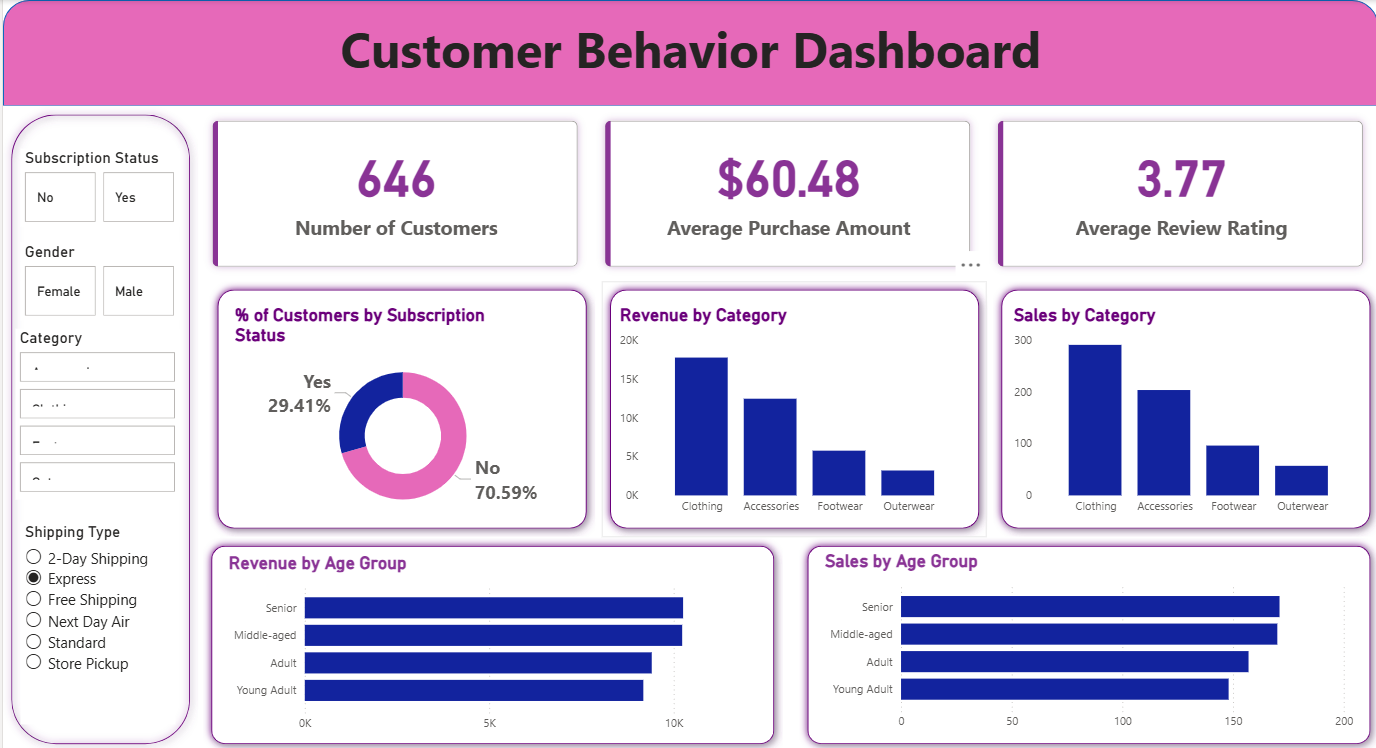

The dashboard page shown, as its layout file describes it:
{"tool":"powerbi","page":{"name":"Page 1","canvas":[1500,820],"ordinal":0},"visuals":[{"type":"cardVisual","fields":{"Data":["public customer.Number of Customers","public customer.Average Purchase Amount","public customer.Average Review Rating"]},"box":[212.9,115.3,1286.5,191.6],"z":2000},{"type":"shape","box":[218.3,585.6,631.7,234.2],"z":2500,"group":"g1"},{"type":"shape","box":[0,0,1499.4,115.3],"z":3000},{"type":"textbox","box":[0,12.4,1499.4,102.9],"z":4000},{"type":"shape","box":[225.4,307,420.5,278.6],"z":5000},{"type":"donutChart","title":"% of Customers by Subscription Status","fields":{"Category":["public customer.subscription_status"],"Y":["CountNonNull(public customer.customer_id)"]},"box":[248.4,331.8,376.2,237.8],"z":6000},{"type":"shape","box":[1078.9,307,420.5,278.6],"z":7000},{"type":"shape","box":[652.1,307,420.5,278.6],"z":8000},{"type":"clusteredColumnChart","title":"Revenue by Category","fields":{"Y":["Sum(public customer.purchase_amount)"],"Category":["public customer.category"]},"box":[667.2,331.8,385.1,237.8],"z":9000},{"type":"clusteredColumnChart","title":"Sales by Category","fields":{"Y":["CountNonNull(public customer.customer_id)"],"Category":["public customer.category"]},"box":[1096.6,331.8,385.1,237.8],"z":10000},{"type":"shape","box":[0,115.3,212.9,704.5],"z":11000},{"type":"advancedSlicerVisual","fields":{"Values":["public customer.subscription_status"]},"box":[19.5,161.5,173.9,85.2],"z":12000},{"type":"advancedSlicerVisual","fields":{"Values":["public customer.gender"]},"box":[19.5,264.4,173.9,85.2],"z":13000},{"type":"advancedSlicerVisual","fields":{"Values":["public customer.category"]},"box":[14.2,358.4,179.2,186.3],"z":14000},{"type":"listSlicer","fields":{"Values":["public customer.shipping_type"]},"box":[19.5,569.6,168.6,220],"z":15000},{"type":"shape","box":[867.7,585.6,631.7,234.2],"z":16000},{"type":"clusteredBarChart","title":"Sales by Age Group","fields":{"Y":["CountNonNull(public customer.customer_id)"],"Category":["public customer.age_group"]},"box":[890.8,601.5,585.6,204.1],"z":17000},{"type":"clusteredBarChart","title":"Revenue by Age Group","fields":{"Y":["Sum(public customer.purchase_amount)"],"Category":["public customer.age_group"]},"box":[241.4,601.6,585.6,204.1],"z":17500,"group":"g1"},{"type":"group","id":"g1","title":"Group 1","box":[218.3,585.6,631.7,234.2],"z":17501}]}

Visuals, with their boxes in screenshot pixels (x1, y1, x2, y2), scaled from the page's 1500x820 canvas onto the 1376x748 screenshot:
cardVisual - public customer.Number of Customers x public customer.Average Purchase Amount: bbox(195, 105, 1375, 280)
shape: bbox(200, 534, 780, 747)
shape: bbox(0, 0, 1375, 105)
textbox: bbox(0, 11, 1375, 105)
shape: bbox(207, 280, 593, 534)
"% of Customers by Subscription Status" donutChart: bbox(228, 303, 573, 520)
shape: bbox(990, 280, 1375, 534)
shape: bbox(598, 280, 984, 534)
"Revenue by Category" clusteredColumnChart: bbox(612, 303, 965, 520)
"Sales by Category" clusteredColumnChart: bbox(1006, 303, 1359, 520)
shape: bbox(0, 105, 195, 747)
advancedSlicerVisual - public customer.subscription_status: bbox(18, 147, 177, 225)
advancedSlicerVisual - public customer.gender: bbox(18, 241, 177, 319)
advancedSlicerVisual - public customer.category: bbox(13, 327, 177, 497)
listSlicer - public customer.shipping_type: bbox(18, 520, 173, 720)
shape: bbox(796, 534, 1375, 747)
"Sales by Age Group" clusteredBarChart: bbox(817, 549, 1354, 735)
"Revenue by Age Group" clusteredBarChart: bbox(221, 549, 759, 735)
"Group 1" group: bbox(200, 534, 780, 747)
